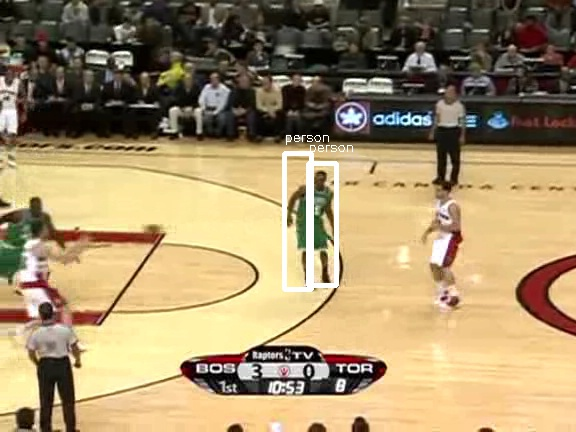person: (296, 178, 330, 259), (295, 178, 329, 259), (297, 178, 331, 259), (296, 177, 330, 258), (296, 179, 330, 260)
target_negative: (36, 324, 427, 404), (168, 211, 283, 375), (26, 287, 127, 352), (428, 247, 484, 292), (540, 158, 549, 341), (493, 422, 510, 431)
